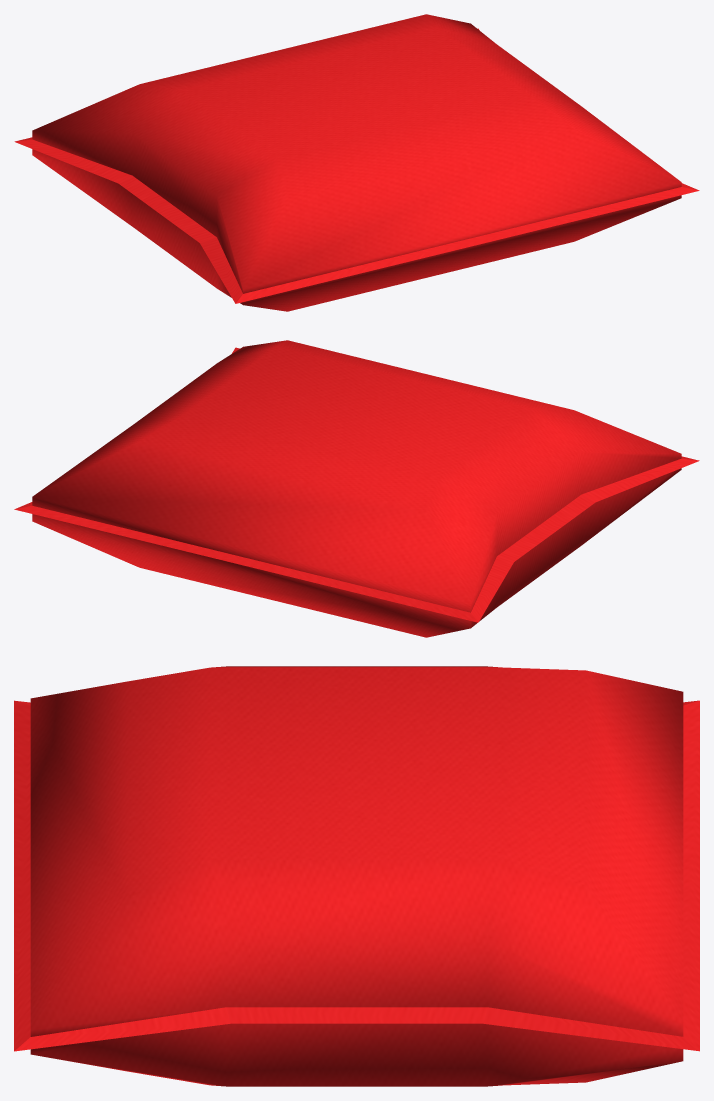
File: T_Pillow_N2.FBX
3 renders of one model, top to bottom at view 1: azimuth 30°, elevation 25°; view 2: azimuth 150°, elevation 25°; view 3: azimuth 270°, elevation 25°, orthographic. The views are drawn at different scales.
Parts seen in each view (by area): view 1: Throw_Pillow; view 2: Throw_Pillow; view 3: Throw_Pillow.
Boxes of the visible parts, x1,y1,x2,y2 form: Throw_Pillow: [14, 14, 699, 311]; Throw_Pillow: [14, 340, 699, 637]; Throw_Pillow: [14, 666, 699, 1086].
Size of the model in its own units: 127 by 37.95 by 105.
